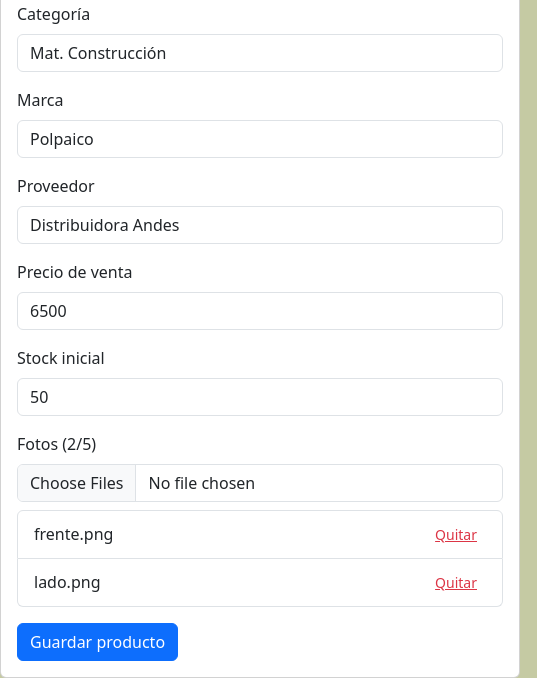
Scenario: product admin panels › AddProductPanel › saves a product with provider and photos, then clears the form
The width and height of the screenshot is (537, 678).
Earlier steps of the test are not shown.
(page scrolled)
Expected: the text "Fotos (2/5)" is shown, [17,432,96,456]
Click the button "Guardar producto".
click(98, 642)  # box [17,622,178,660]
(page scrolled)
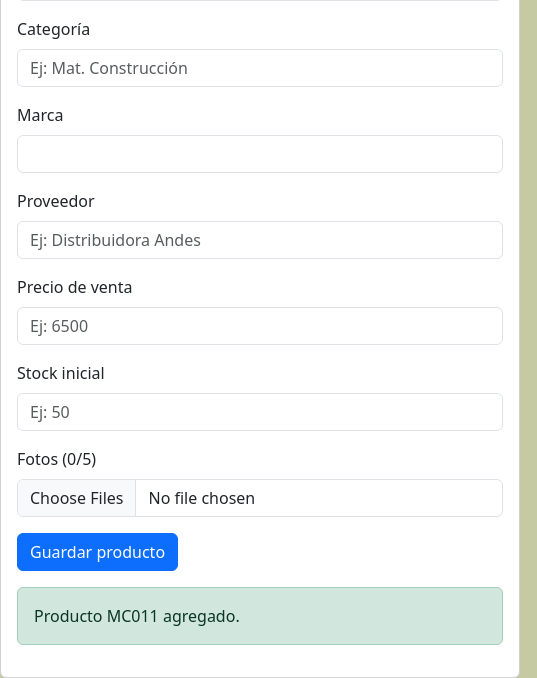
Expected: the text "Producto MC011 agregado." is shown, [17,586,503,644]
Expected: the text "Fotos (0/5)" is shown, [17,446,96,470]
